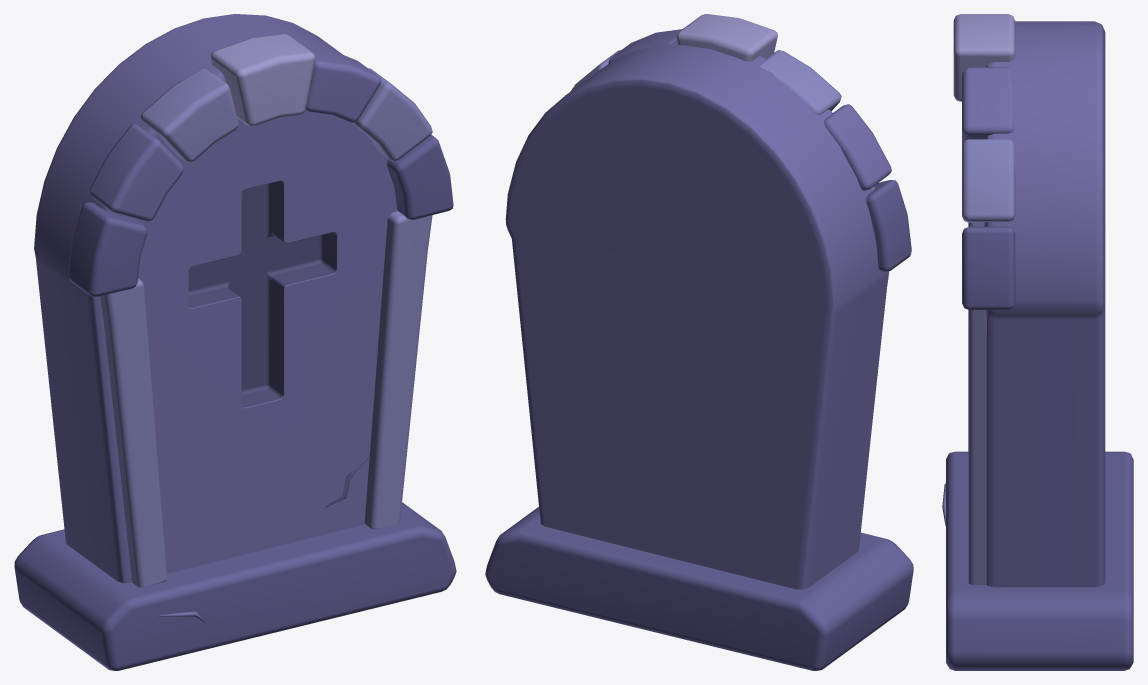
The model's file is arched_cross_tombstone.glb.
3 views of the same model, side by side, from view 1: azimuth 30°, elevation 25°; view 2: azimuth 150°, elevation 25°; view 3: azimuth 270°, elevation 25° (orthographic). The views are drawn at different scales.
Visible parts, largest first — view 1: Slate_Arched_Tablet, Chipped_Stone_Plinth, Raised_Border_1, Raised_Border_-1, Carved_Arch_Block_4, Carved_Arch_Block_6, Carved_Arch_Block_5, Carved_Arch_Block_7, Carved_Arch_Block_1, Carved_Arch_Block_3, Carved_Arch_Block_2; view 2: Slate_Arched_Tablet, Chipped_Stone_Plinth, Carved_Arch_Block_4, Carved_Arch_Block_7, Carved_Arch_Block_6, Carved_Arch_Block_5, Carved_Arch_Block_3; view 3: Slate_Arched_Tablet, Chipped_Stone_Plinth, Raised_Border_1, Carved_Arch_Block_1, Carved_Arch_Block_2, Carved_Arch_Block_3, Carved_Arch_Block_4.
Part boxes in pixels (left/top/right/bottom): Slate_Arched_Tablet: left=34, top=14, right=397, bottom=583; Chipped_Stone_Plinth: left=14, top=502, right=456, bottom=670; Raised_Border_1: left=364, top=211, right=432, bottom=529; Raised_Border_-1: left=100, top=278, right=166, bottom=587; Carved_Arch_Block_4: left=210, top=34, right=315, bottom=126; Carved_Arch_Block_6: left=89, top=124, right=183, bottom=221; Carved_Arch_Block_5: left=140, top=69, right=238, bottom=162; Carved_Arch_Block_7: left=68, top=202, right=147, bottom=296; Carved_Arch_Block_1: left=387, top=134, right=453, bottom=219; Carved_Arch_Block_3: left=305, top=46, right=380, bottom=122; Carved_Arch_Block_2: left=352, top=68, right=432, bottom=161; Slate_Arched_Tablet: left=505, top=40, right=888, bottom=589; Chipped_Stone_Plinth: left=485, top=507, right=913, bottom=670; Carved_Arch_Block_4: left=676, top=14, right=777, bottom=61; Carved_Arch_Block_7: left=866, top=180, right=911, bottom=271; Carved_Arch_Block_6: left=824, top=104, right=891, bottom=190; Carved_Arch_Block_5: left=759, top=50, right=841, bottom=114; Carved_Arch_Block_3: left=608, top=29, right=682, bottom=63; Slate_Arched_Tablet: left=984, top=21, right=1105, bottom=587; Chipped_Stone_Plinth: left=946, top=451, right=1133, bottom=670; Raised_Border_1: left=968, top=310, right=986, bottom=584; Carved_Arch_Block_1: left=962, top=226, right=1015, bottom=309; Carved_Arch_Block_2: left=962, top=139, right=1015, bottom=222; Carved_Arch_Block_3: left=962, top=67, right=1014, bottom=145; Carved_Arch_Block_4: left=953, top=14, right=1015, bottom=101.
Bounding box in the file's own units: 1.24 × 1.86 × 0.5706.
